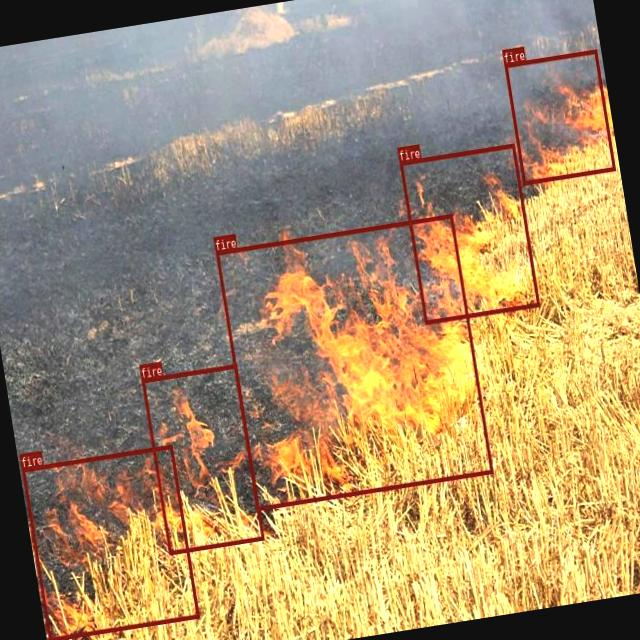fire: (215, 214, 493, 511), (21, 444, 199, 640), (400, 144, 540, 324), (141, 363, 264, 554), (504, 49, 616, 184)
